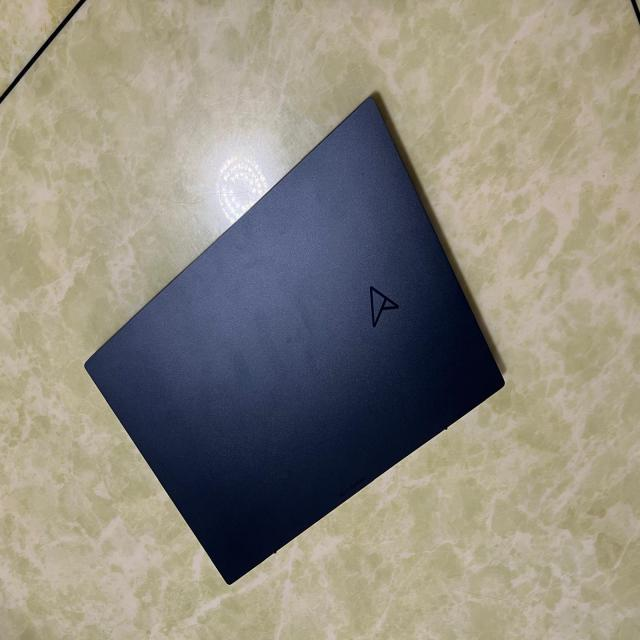laptop: (83, 90, 506, 585)
